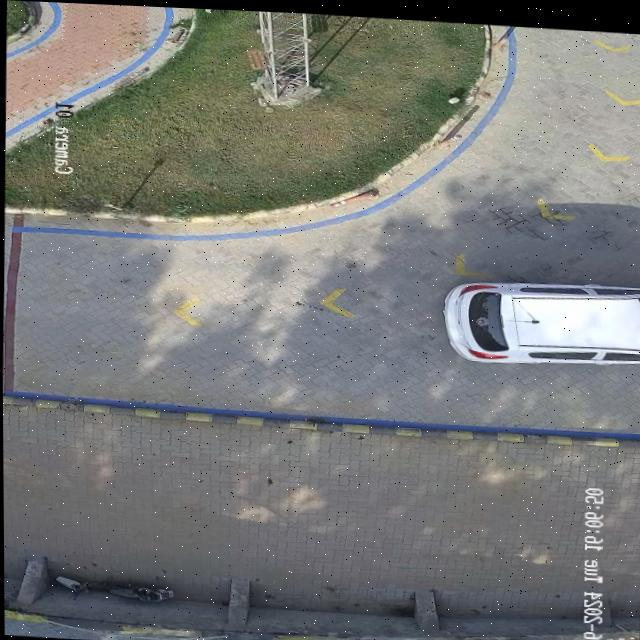car: (441, 276, 640, 359)
